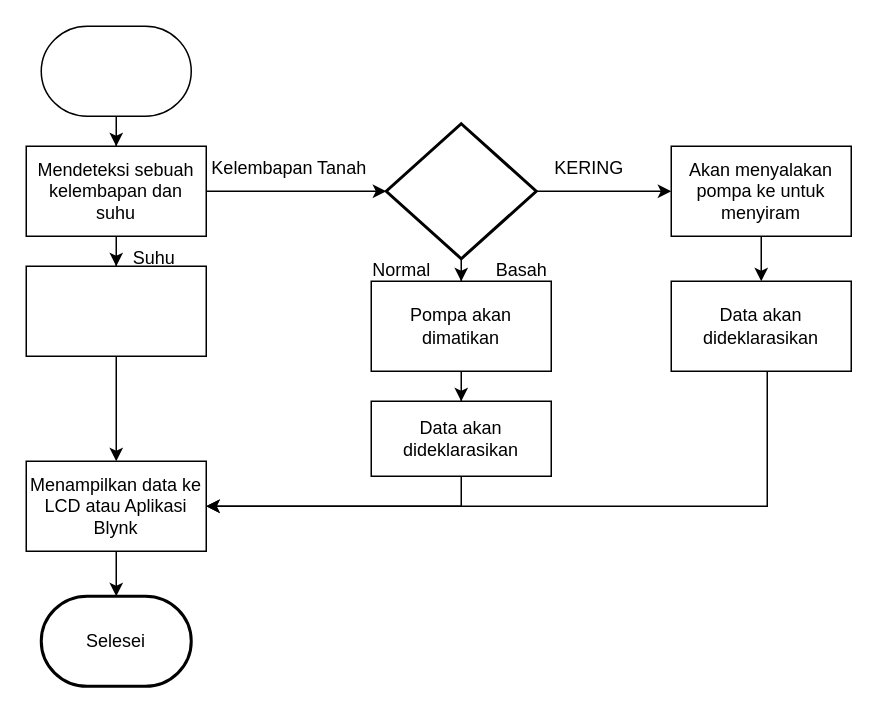
Image size: 878x714. Some labels were removed from this diagram. The centre of each missing label's shape, as x and y in pixels:
"Berapa jumlah kelembapan?" belongs at pixel 460 191.
"Mulai" belongs at pixel 115 70.
"Sensor DHT11 mendeteksi suhu dan kelembapan sekitar" belongs at pixel 115 310.
